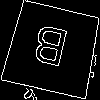B: (27, 24, 70, 77)
